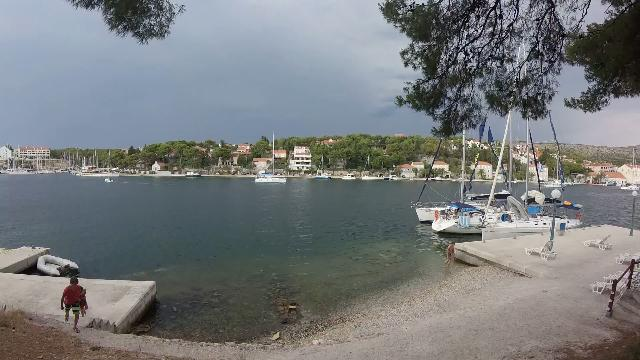Sailboat: (250, 174, 292, 187), (101, 175, 117, 185)
